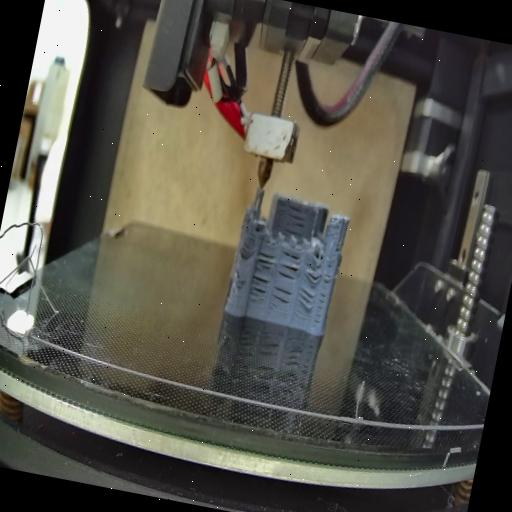cracks: (314, 268, 334, 327), (281, 202, 309, 238), (275, 248, 302, 282), (268, 284, 292, 312), (248, 274, 268, 304), (302, 261, 324, 284), (296, 288, 316, 312), (256, 249, 276, 270), (238, 235, 253, 262), (230, 268, 243, 282), (334, 240, 342, 254)
